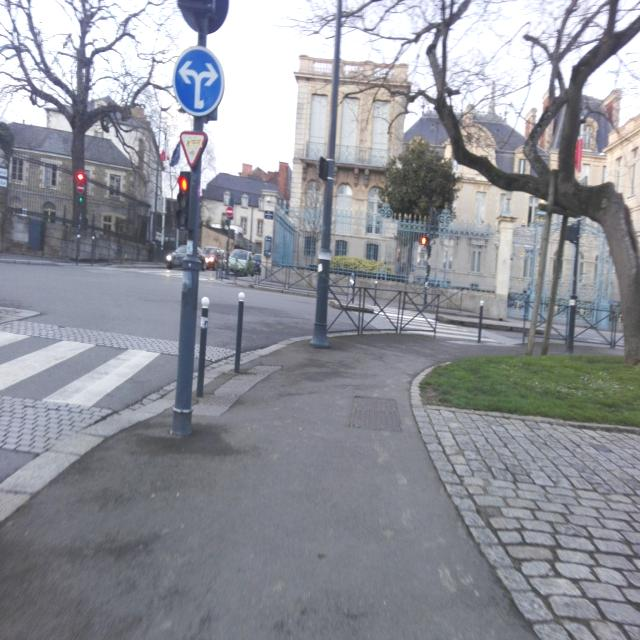car: (166, 244, 204, 270), (228, 249, 255, 275), (202, 247, 226, 270)
